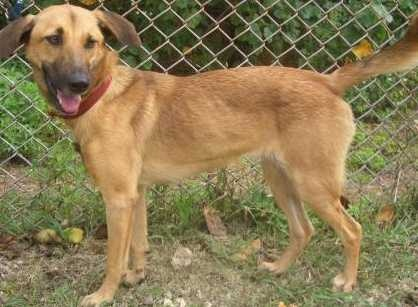dog: (5, 0, 418, 243)
